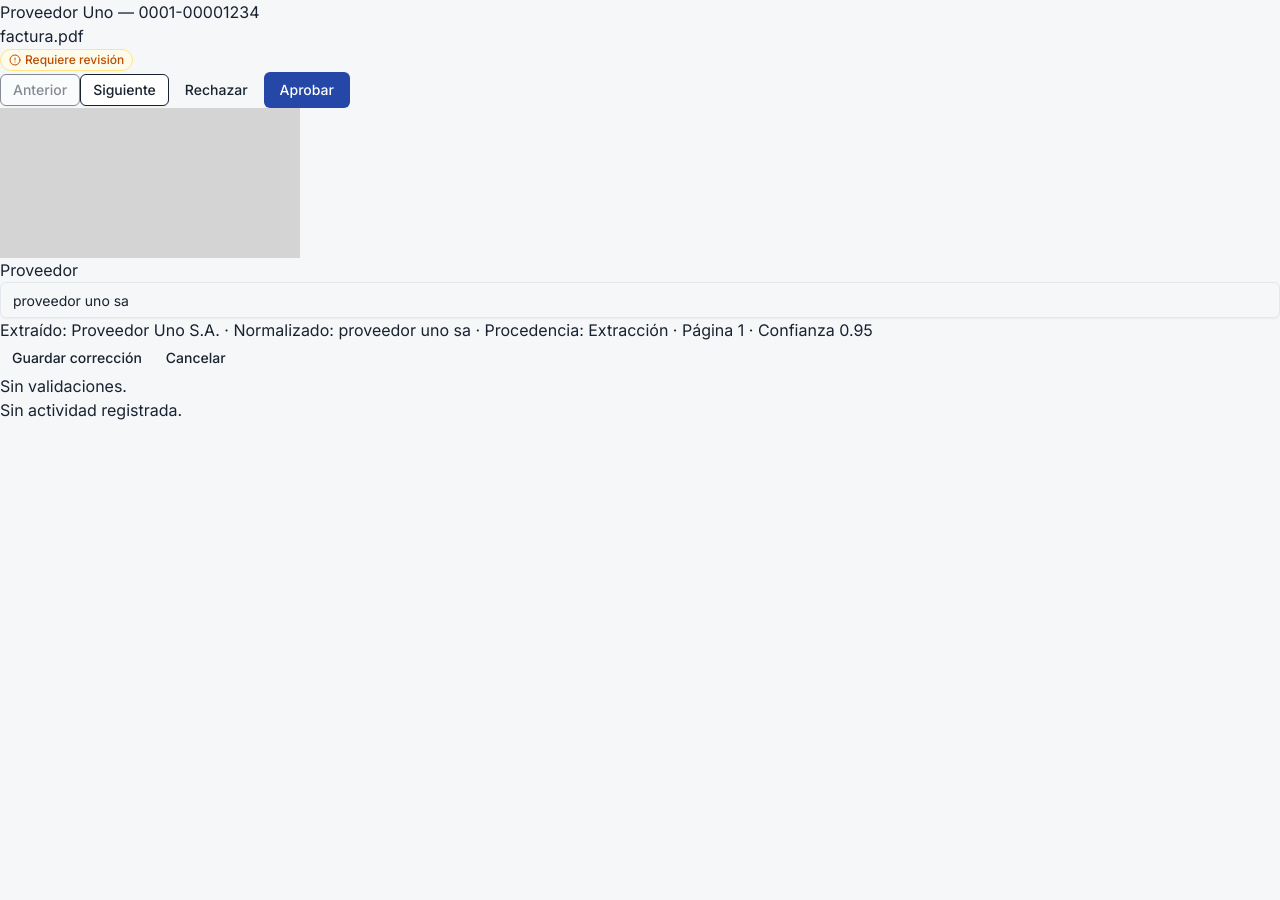
Test: ReviewPage › needs_review sin blockers → Aprobar abre el diálogo
Click the button "Aprobar": (307, 90) [264,72,350,108]
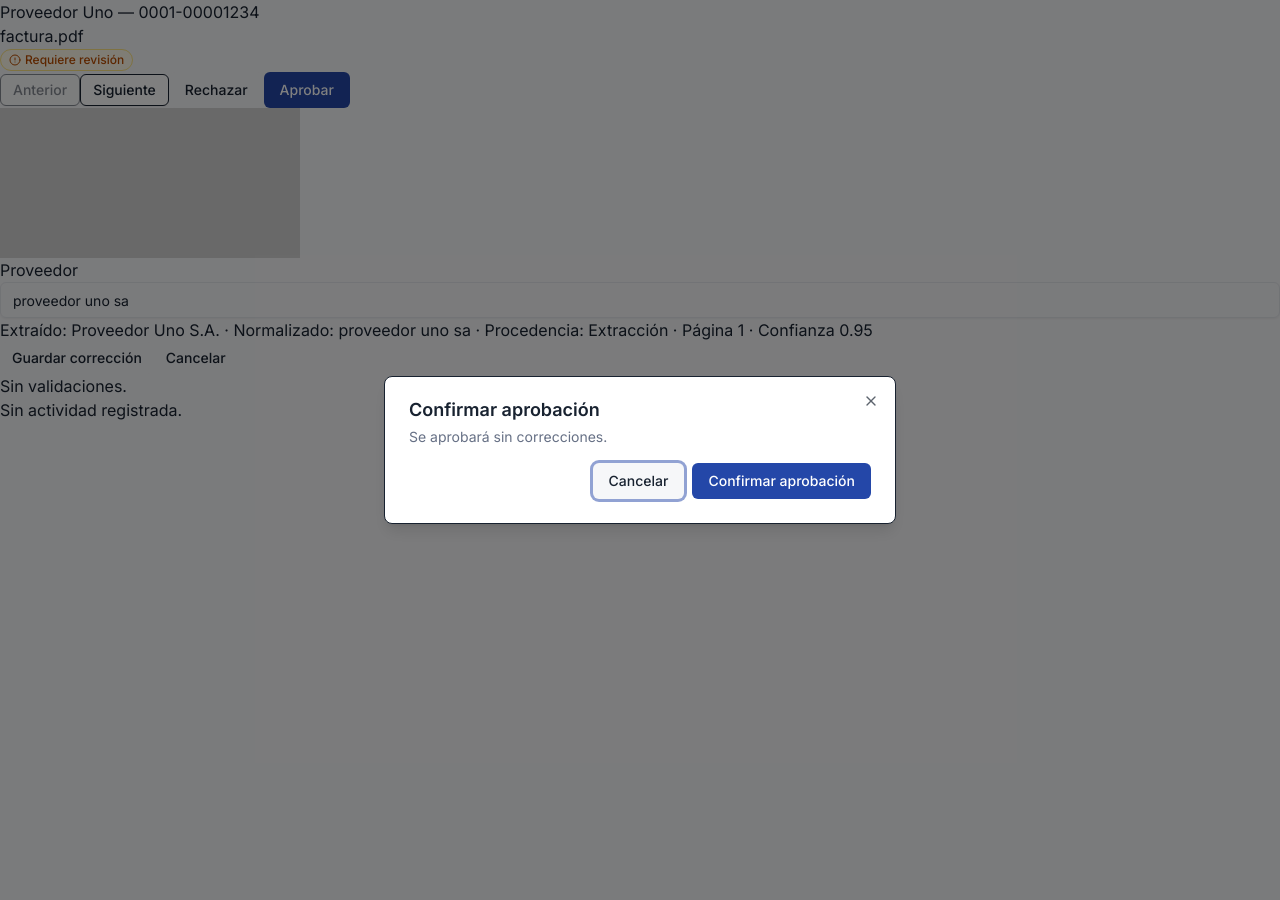
Expected: the button "Confirmar aprobación" is shown, [692,463,871,499]
